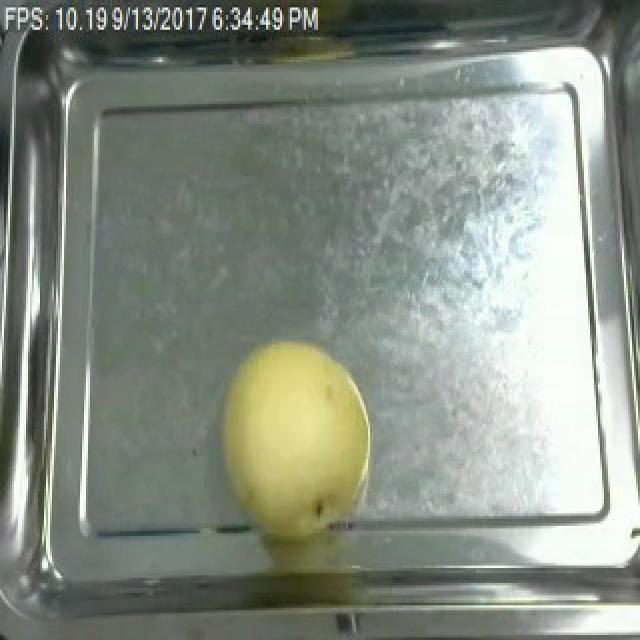Fruit: (210, 332, 382, 536)
